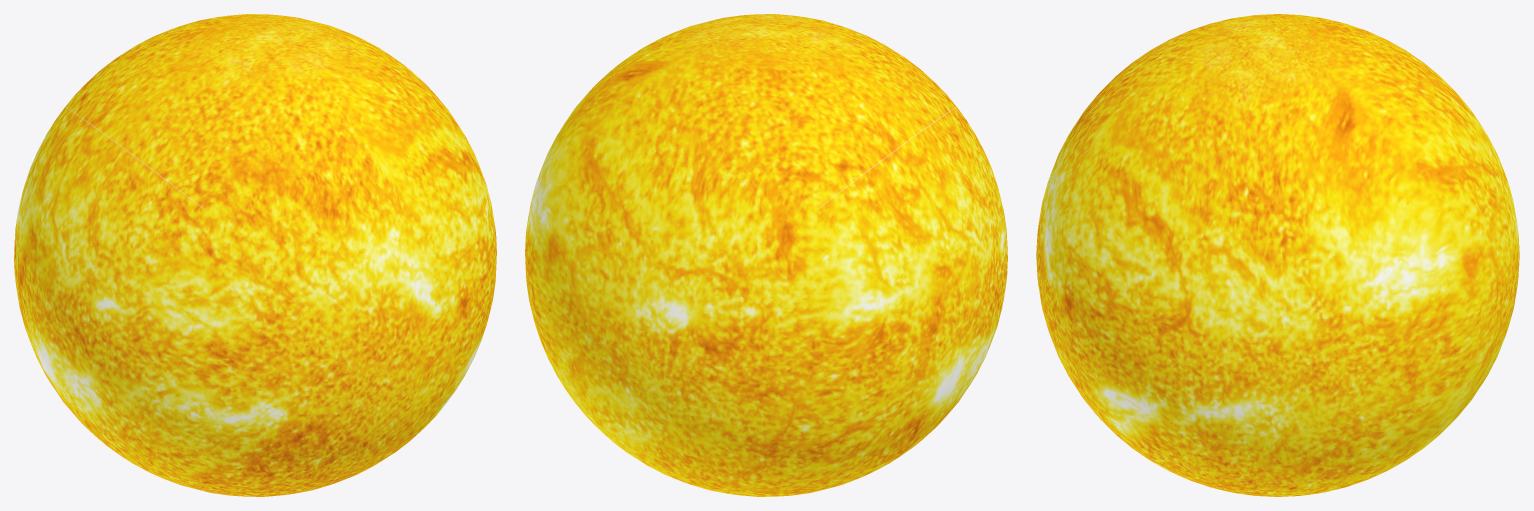
Rendered from sun-CO4HUDAr.glb.
3 renders of one model, left to right at view 1: azimuth 30°, elevation 25°; view 2: azimuth 150°, elevation 25°; view 3: azimuth 270°, elevation 25°, orthographic.
Parts seen in each view (by area): view 1: Cube.001_0; view 2: Cube.001_0; view 3: Cube.001_0.
Boxes of the visible parts, left/top/right/bottom form: Cube.001_0: left=14, top=14, right=496, bottom=496; Cube.001_0: left=525, top=14, right=1007, bottom=496; Cube.001_0: left=1036, top=14, right=1519, bottom=496.
Size of the model in its own units: 1000 by 1000 by 1000.
1 material, 1 textured.
